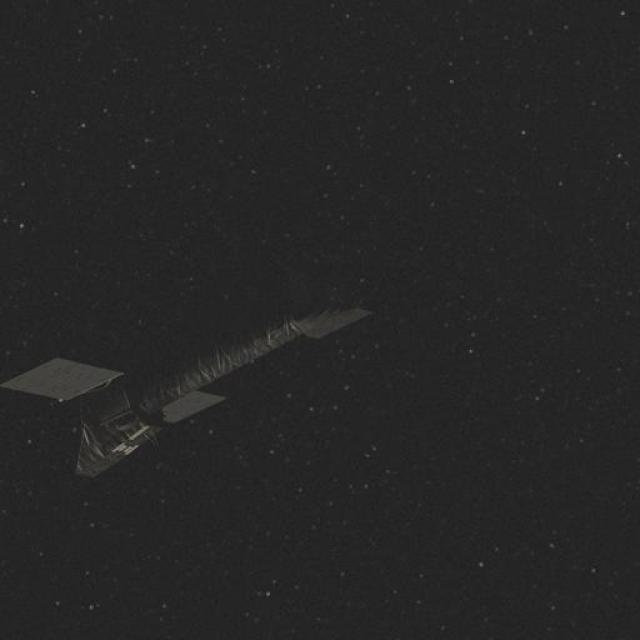xmm_newton: (25, 245, 372, 518)
